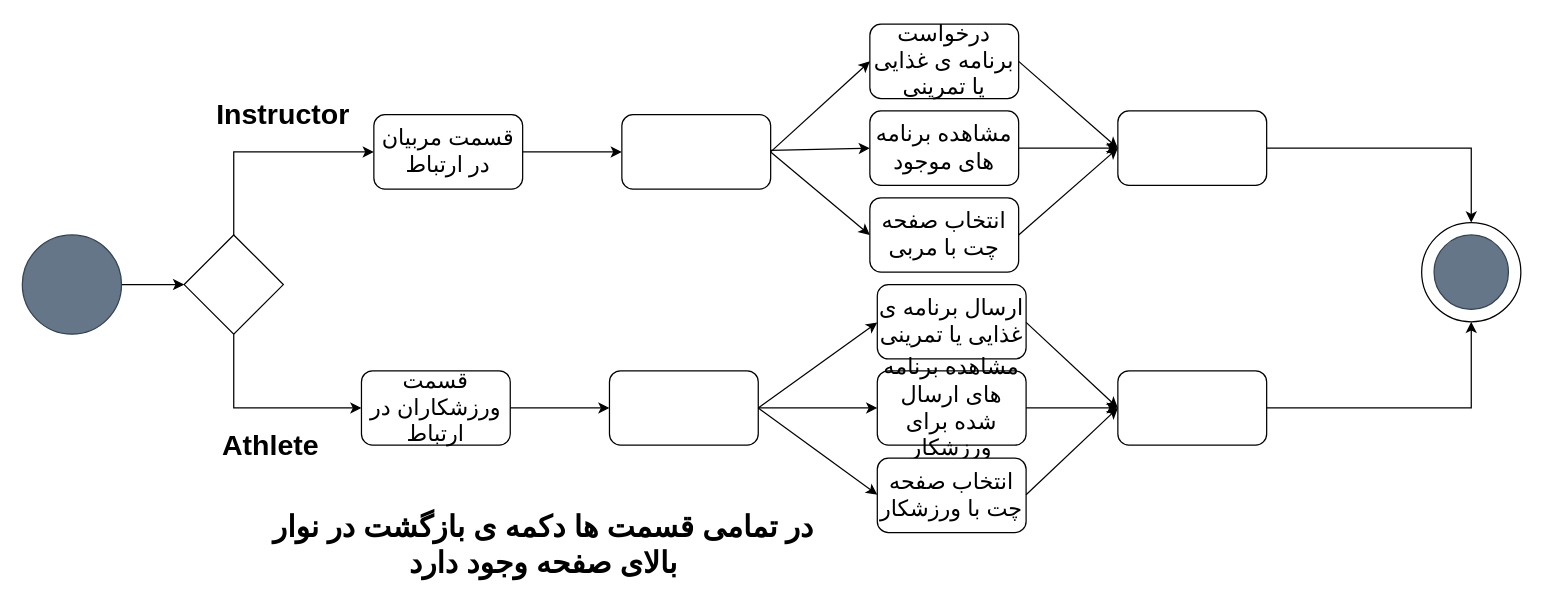
This 1543x603 diagram has some shape labels left out. Each missing label, with the box of its shape:
انتخاب مربی مورد نظر: (621, 113, 771, 189)
انتخاب ورزشکار مورد نظر: (608, 370, 758, 445)
بازگت به صفحه انتخاب مربیان: (1117, 110, 1267, 185)
بازگت به صفحه انتخاب ورزشکار: (1117, 370, 1267, 445)
